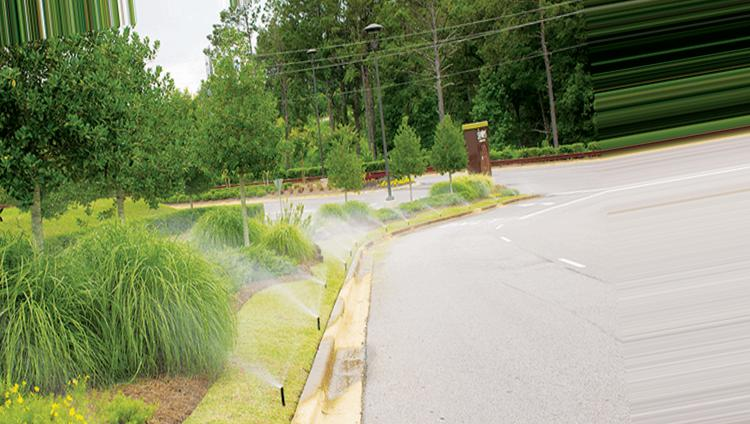patch: (137, 381, 199, 404), (240, 284, 266, 300), (280, 276, 312, 281)
